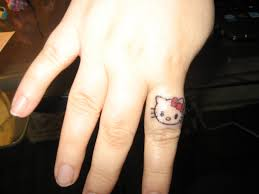hand: (6, 1, 224, 192)
